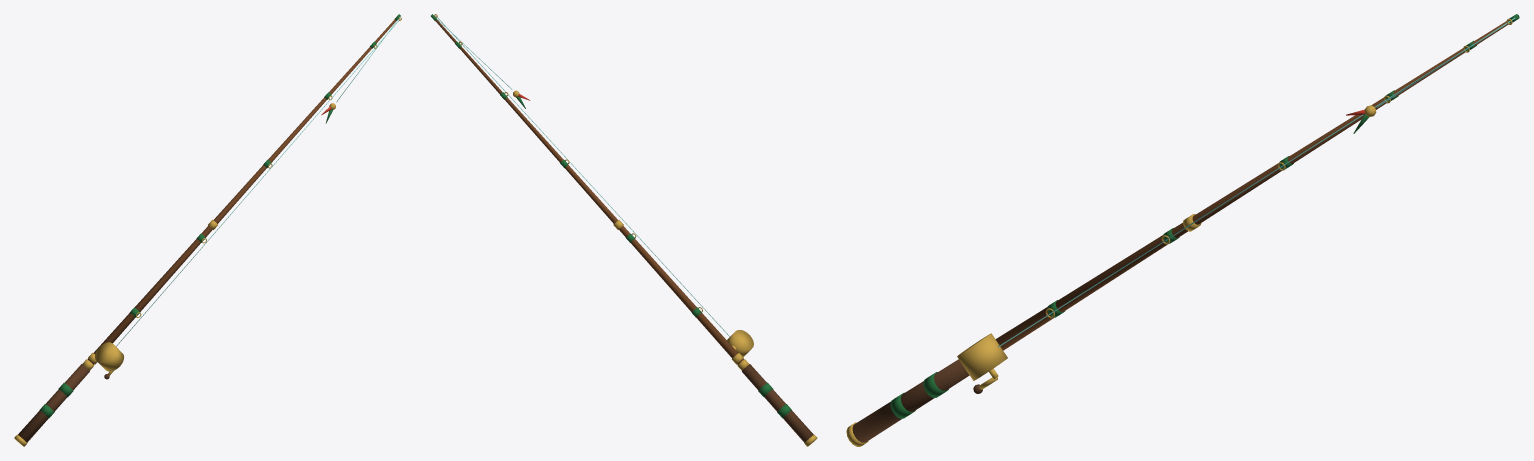
The model's file is lamberts_rute.glb.
3 renders of one model, left to right at view 1: azimuth 30°, elevation 25°; view 2: azimuth 150°, elevation 25°; view 3: azimuth 330°, elevation 25°, orthographic. The views are drawn at different scales.
Visible parts, largest first — view 1: lamberts_rute; view 2: lamberts_rute; view 3: lamberts_rute.
Boxes of the visible parts, x1,y1,x2,y2 form: lamberts_rute: (14, 14, 401, 446); lamberts_rute: (431, 14, 817, 446); lamberts_rute: (846, 14, 1519, 446).
Size of the model in its own units: 1.56 by 1.32 by 0.126.
